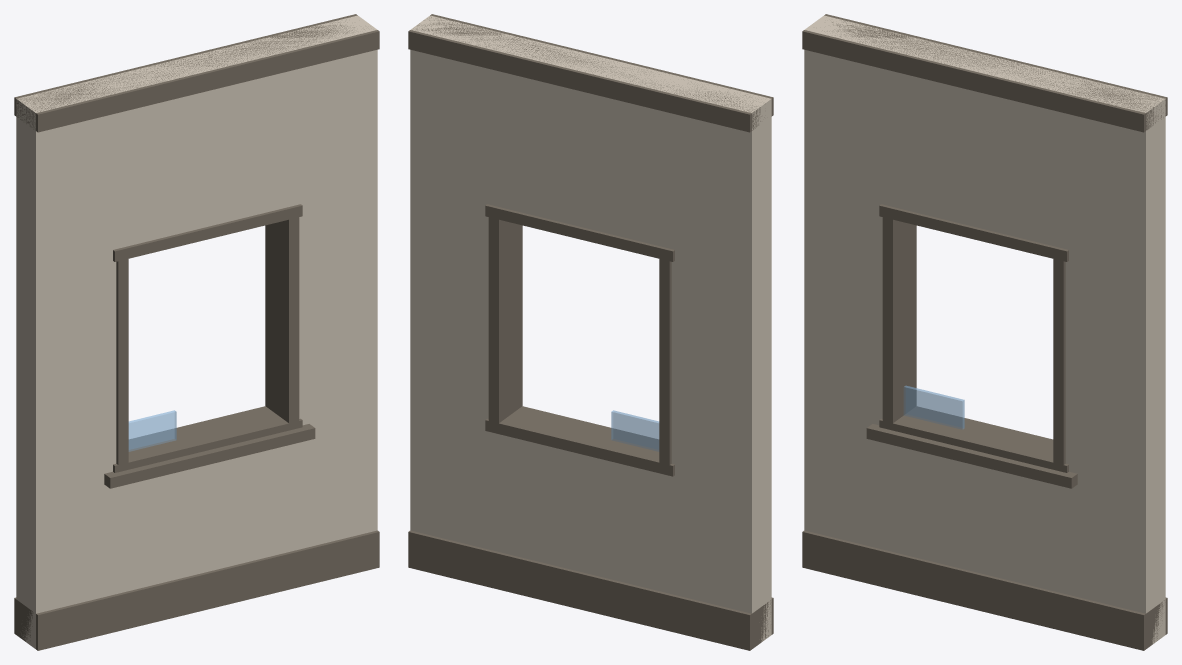
The model's file is wall_plaster_window_broken.glb.
3 views of the same model, side by side, from view 1: azimuth 30°, elevation 25°; view 2: azimuth 150°, elevation 25°; view 3: azimuth 330°, elevation 25° (orthographic).
Visible parts, largest first — view 1: wall_plaster_window_broken; view 2: wall_plaster_window_broken; view 3: wall_plaster_window_broken.
Boxes of the visible parts, left/top/right/bottom form: wall_plaster_window_broken: left=14, top=14, right=379, bottom=650; wall_plaster_window_broken: left=408, top=14, right=773, bottom=650; wall_plaster_window_broken: left=802, top=14, right=1167, bottom=650.
Size of the model in its own units: 2 by 3 by 0.28.
